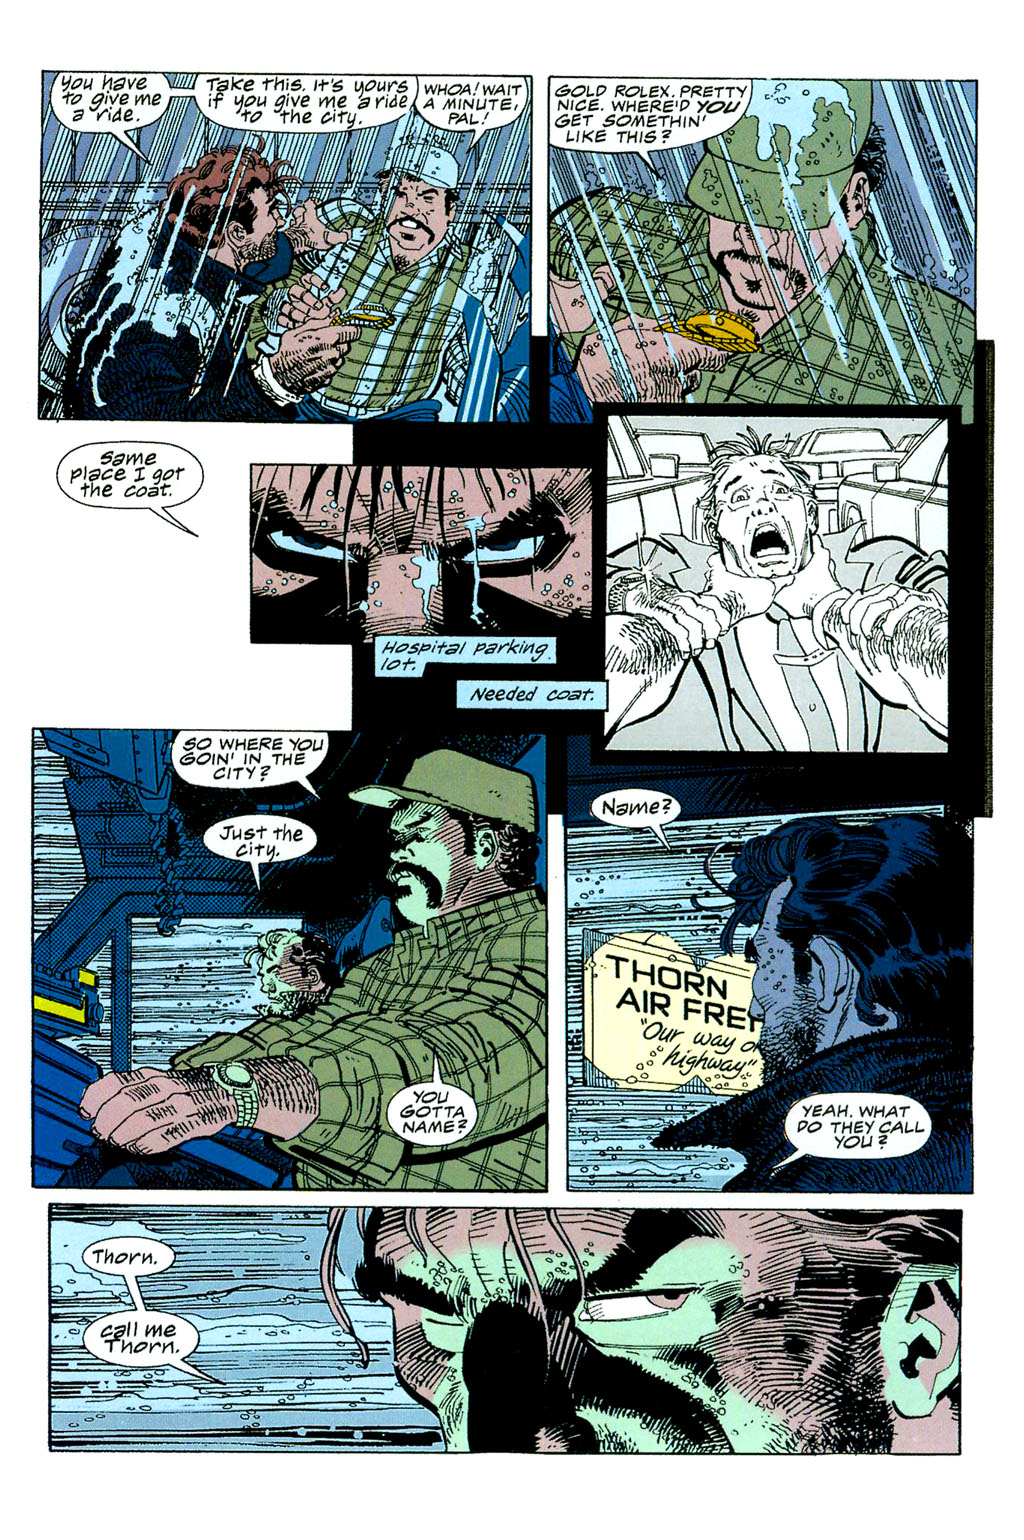Baloon: (546, 81, 761, 165), (49, 438, 211, 543), (194, 67, 421, 138), (773, 1086, 937, 1176), (82, 1305, 227, 1393), (175, 725, 331, 800), (53, 71, 170, 160), (418, 64, 525, 155), (379, 1054, 480, 1150), (201, 817, 323, 888), (370, 631, 555, 676), (458, 669, 613, 717), (82, 1238, 173, 1296), (594, 793, 675, 855)
Vignetta: (32, 724, 546, 1193), (53, 1205, 965, 1455), (563, 733, 977, 1198), (42, 74, 530, 424), (546, 69, 977, 430), (606, 412, 946, 752), (249, 462, 589, 648)
